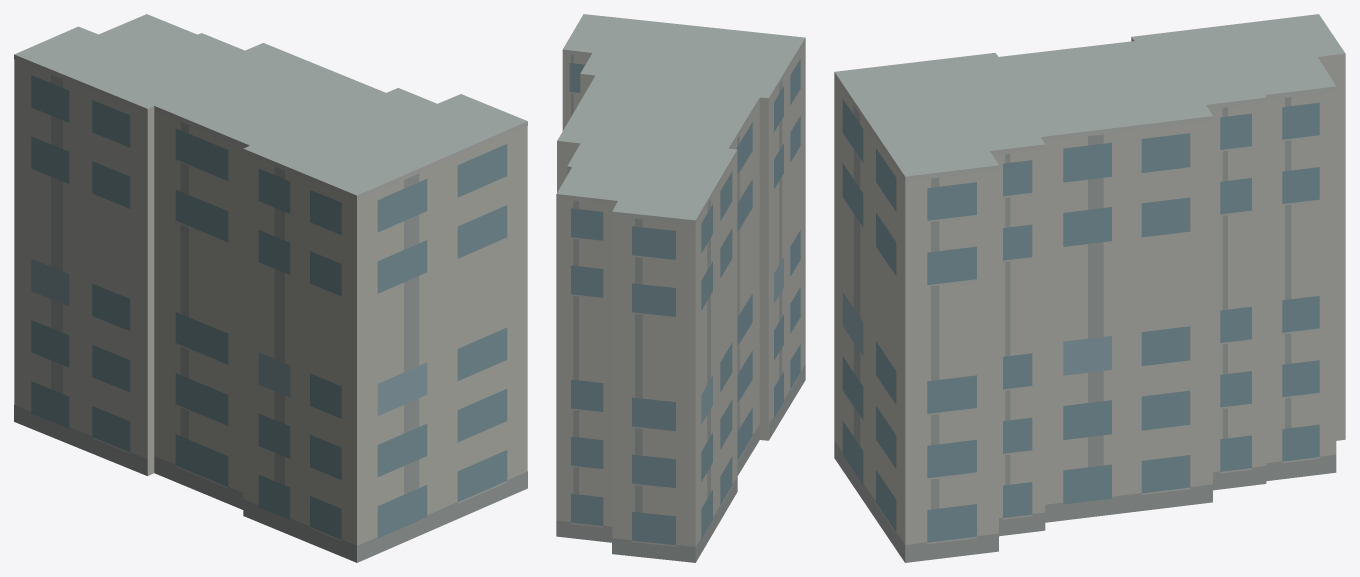
Rendered from survey-upis-32641922.glb.
3 views of the same model, side by side, from view 1: azimuth 30°, elevation 25°; view 2: azimuth 150°, elevation 25°; view 3: azimuth 270°, elevation 25° (orthographic). The views are drawn at different scales.
Parts seen in each view (by area): view 1: survey-upis-32641922.tmp; view 2: survey-upis-32641922.tmp; view 3: survey-upis-32641922.tmp.
Part boxes in pixels (x1=…): survey-upis-32641922.tmp: x1=14, y1=14, x2=527, y2=562; survey-upis-32641922.tmp: x1=556, y1=14, x2=805, y2=562; survey-upis-32641922.tmp: x1=834, y1=14, x2=1345, y2=562.
Bounding box in the file's own units: 16.54 × 18.3 × 21.96.
